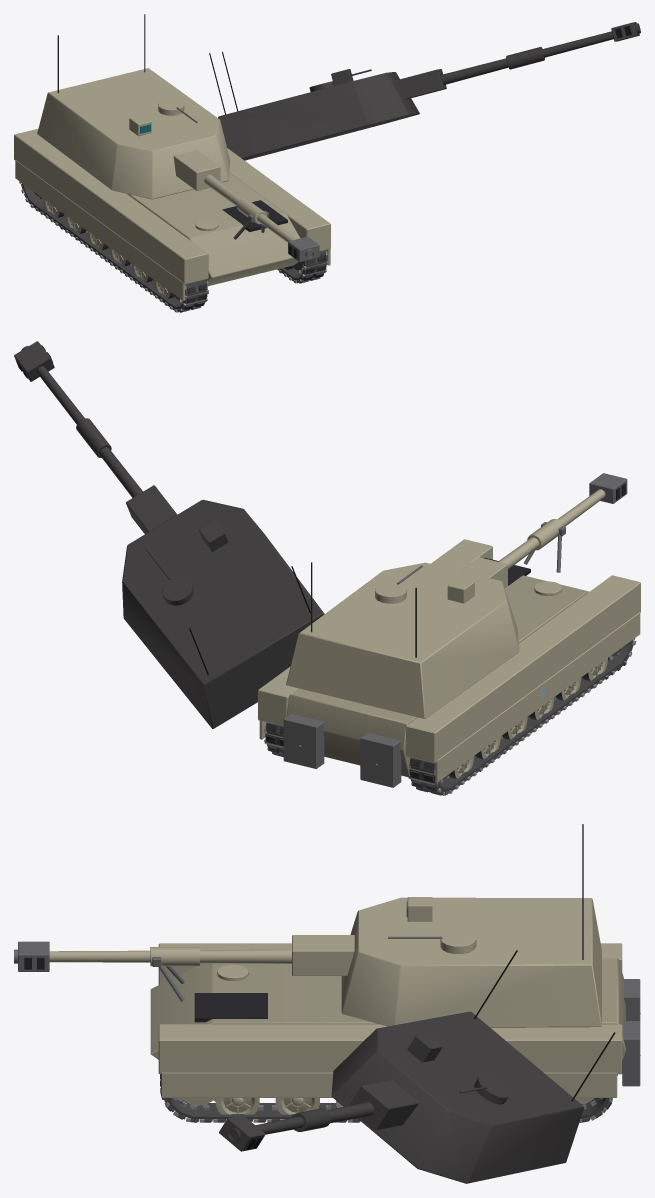
Rendered from artillery__sh_5_palmaria.glb.
3 renders of one model, top to bottom at view 1: azimuth 30°, elevation 25°; view 2: azimuth 150°, elevation 25°; view 3: azimuth 270°, elevation 25°, orthographic. The views are drawn at different scales.
Visible parts, largest first — view 1: Hull_Mesh, Turret_Mesh, Wreck, Gun_Mesh, Track_L_Mesh, Track_R_Mesh; view 2: Wreck, Hull_Mesh, Turret_Mesh, Track_L_Mesh, Gun_Mesh; view 3: Hull_Mesh, Wreck, Turret_Mesh, Gun_Mesh, Track_R_Mesh, Wheel_R5_Mesh, Wheel_R4_Mesh.
Part boxes in pixels (x1,y1,x2,y2): Hull_Mesh: (14, 129, 330, 300); Turret_Mesh: (37, 14, 230, 199); Wreck: (20, 22, 640, 312); Gun_Mesh: (173, 150, 319, 262); Track_L_Mesh: (19, 181, 208, 312); Track_R_Mesh: (277, 250, 328, 283); Wreck: (14, 341, 635, 795); Hull_Mesh: (258, 522, 640, 787); Turret_Mesh: (286, 562, 519, 718); Track_L_Mesh: (408, 638, 635, 795); Gun_Mesh: (460, 473, 627, 587); Hull_Mesh: (150, 943, 640, 1097); Wreck: (160, 950, 615, 1183); Turret_Mesh: (341, 824, 601, 1027); Gun_Mesh: (14, 935, 354, 975); Track_R_Mesh: (160, 1074, 612, 1122); Wheel_R5_Mesh: (215, 1098, 259, 1114); Wheel_R4_Mesh: (275, 1098, 319, 1114).
Size of what is drawn, in the model's own units: 11.92 by 3.88 by 9.81.
